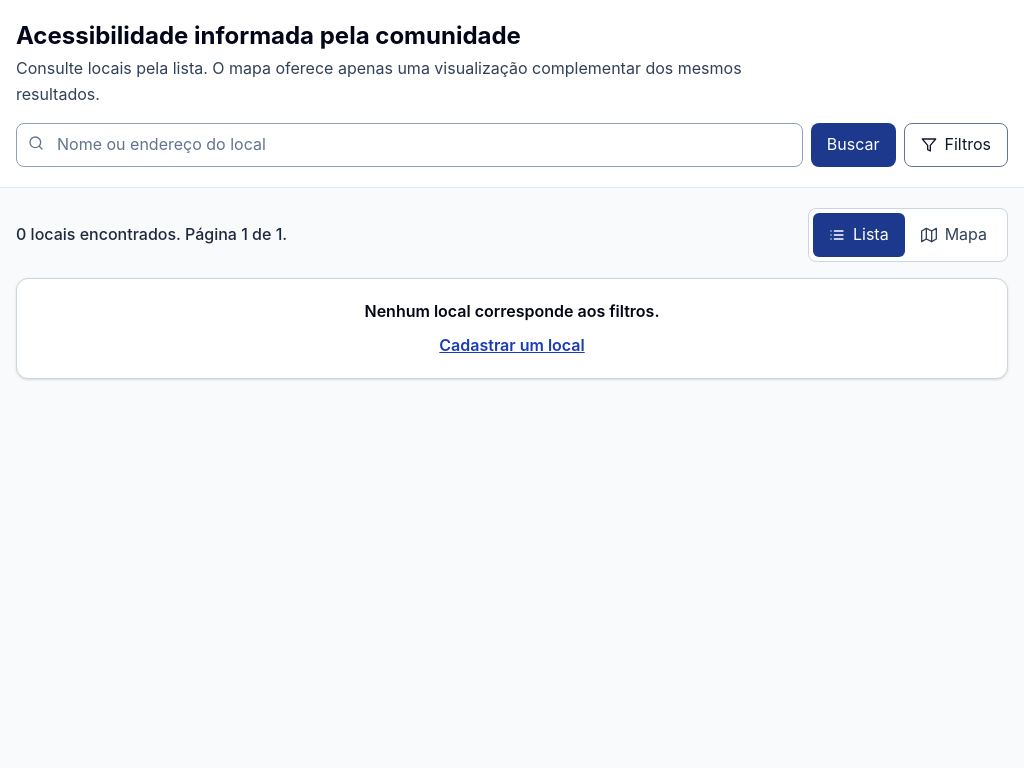
Test: Home › orienta o cadastro manual quando a busca geográfica não encontra endereço
Type "Endereço inexistente" into the search field named "Buscar por nome ou endereço" at x=409, y=145, box x1=16 y1=123 x2=803 y2=167
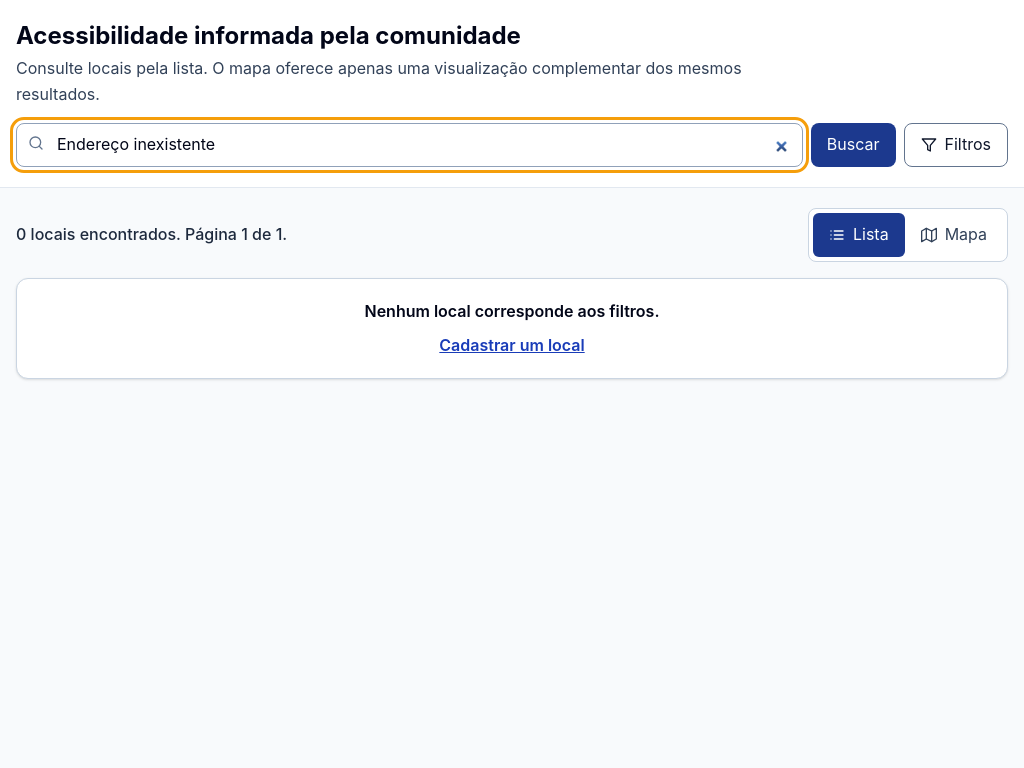
Click the button "Buscar" at x=853, y=145, box x1=811 y1=123 x2=896 y2=167
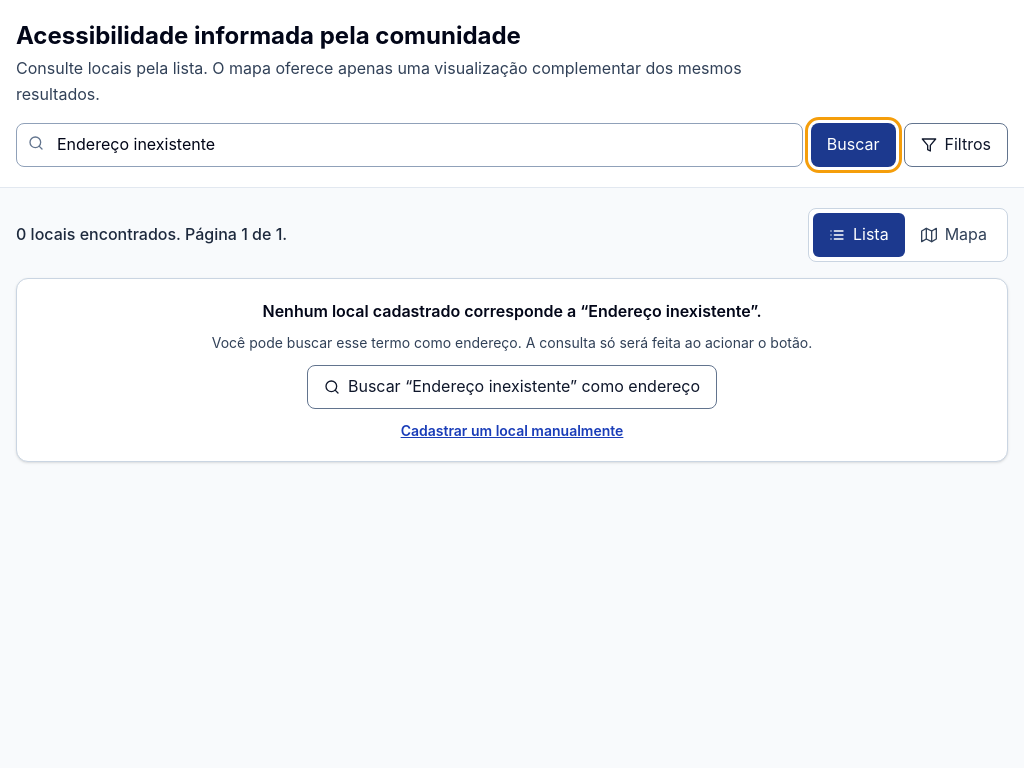
Click the button "Buscar “Endereço inexistente” como endereço" at x=512, y=387, box x1=307 y1=365 x2=717 y2=409
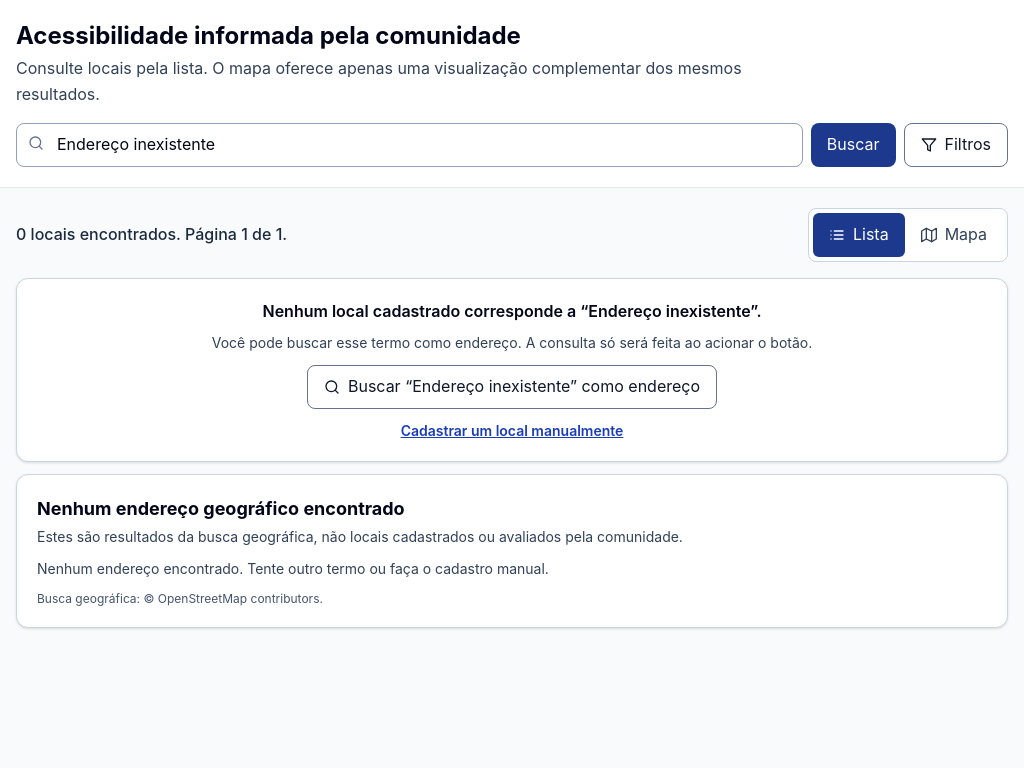
Check: the heading "Nenhum endereço geográfico encontrado" is shown, box x1=37 y1=498 x2=405 y2=519
Check: the text "Nenhum endereço encontrado. Tente outro termo ou faça o cadastro manual." is shown, box x1=37 y1=560 x2=549 y2=577
